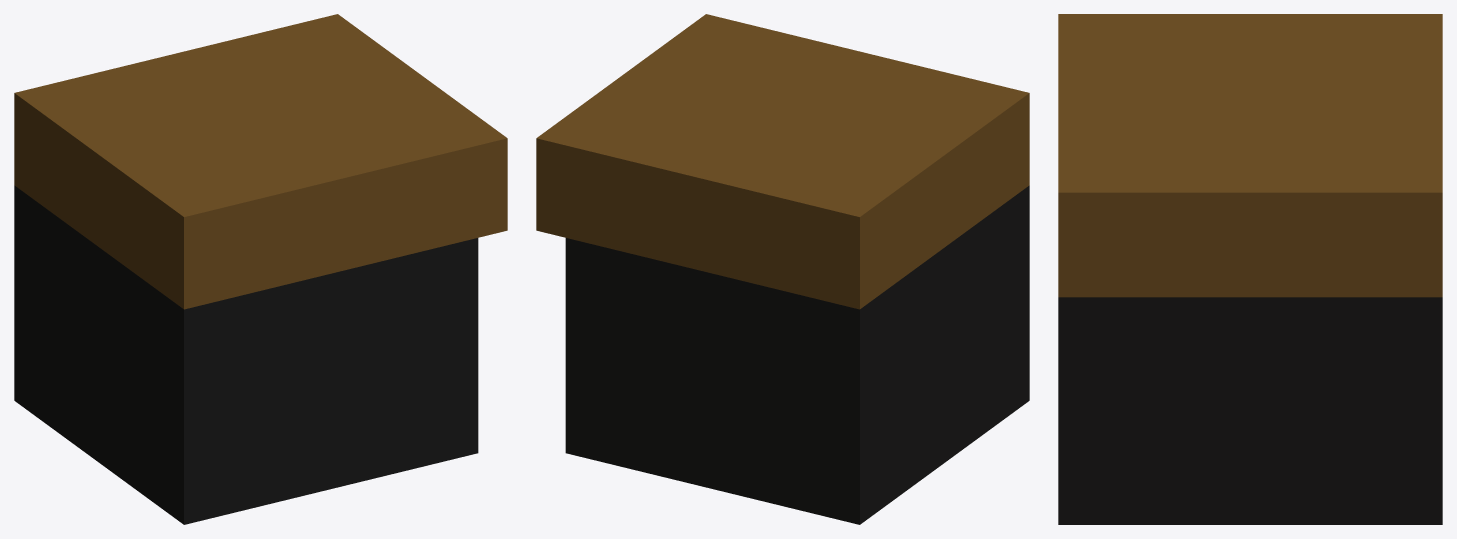
Rendered from conveyosadsadr.fbx.
The picture shows the model from 3 angles, left to right: view 1: azimuth 30°, elevation 25°; view 2: azimuth 150°, elevation 25°; view 3: azimuth 270°, elevation 25°; orthographic projection. The views are drawn at different scales.
Visible parts, largest first — view 1: Cube.002, Cube; view 2: Cube.002, Cube; view 3: Cube, Cube.002.
Boxes of the visible parts, x1=… form: Cube.002: x1=14, y1=185, x2=478, y2=524; Cube: x1=14, y1=14, x2=507, y2=309; Cube.002: x1=565, y1=185, x2=1029, y2=524; Cube: x1=536, y1=14, x2=1029, y2=309; Cube: x1=1058, y1=14, x2=1442, y2=297; Cube.002: x1=1058, y1=297, x2=1442, y2=524.
Size of the model in its own units: 220 by 200 by 200.
